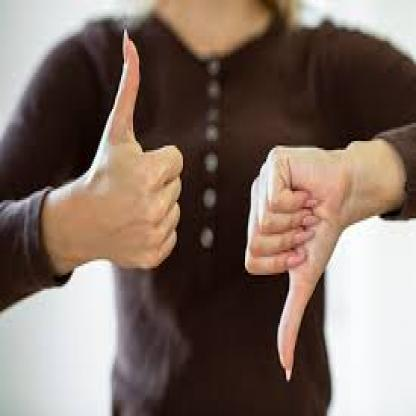thumb_down: (243, 136, 340, 382)
thumb_up: (92, 28, 188, 274)
